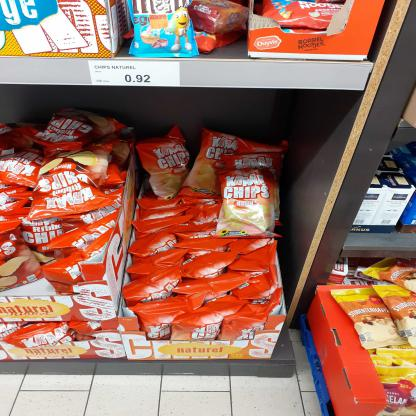prtg: (89, 62, 181, 88)
